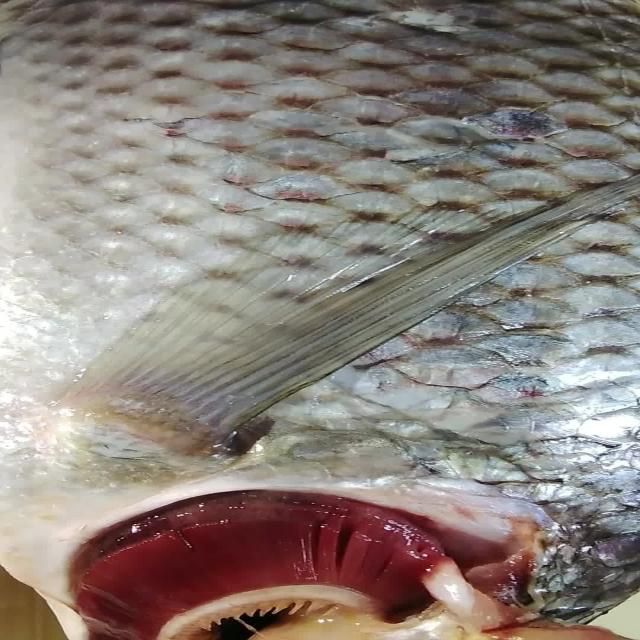Fresh: (0, 0, 640, 467), (51, 477, 503, 640)
